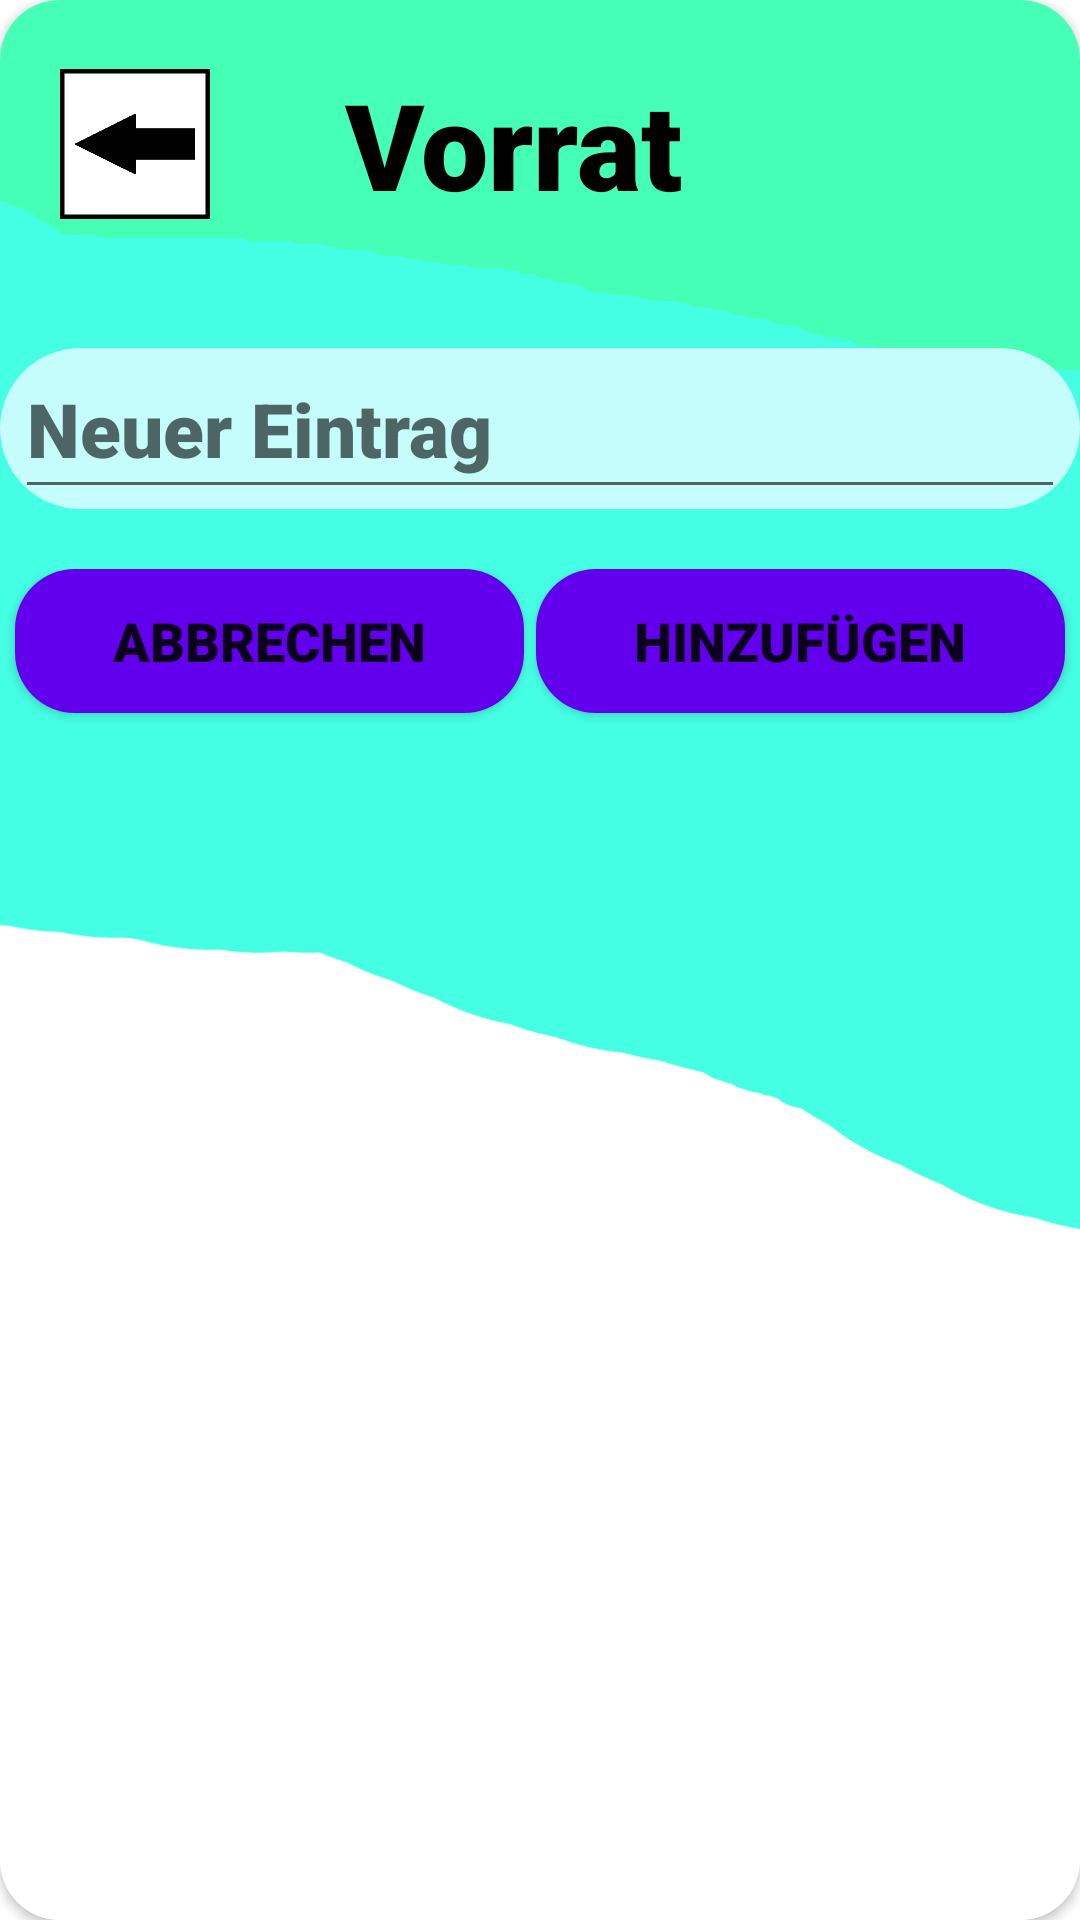

Where to tap for icons on this 1080w x 1920h app screen, as point (x, y):
zurueck: point (135, 144)
